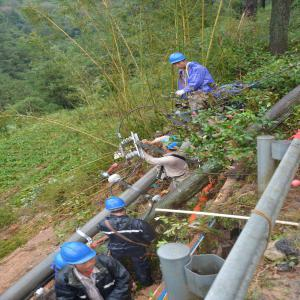blue: (62, 243, 98, 274), (103, 197, 129, 218), (161, 138, 185, 154), (170, 53, 188, 70)
